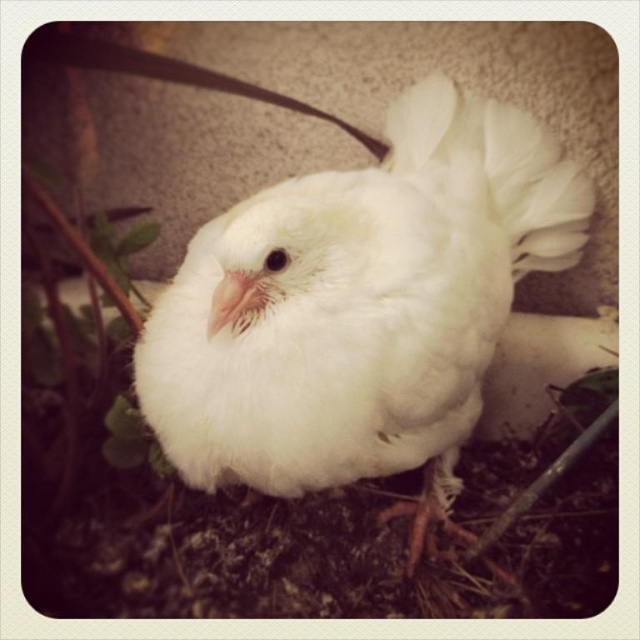Chicken: (121, 66, 597, 577)
